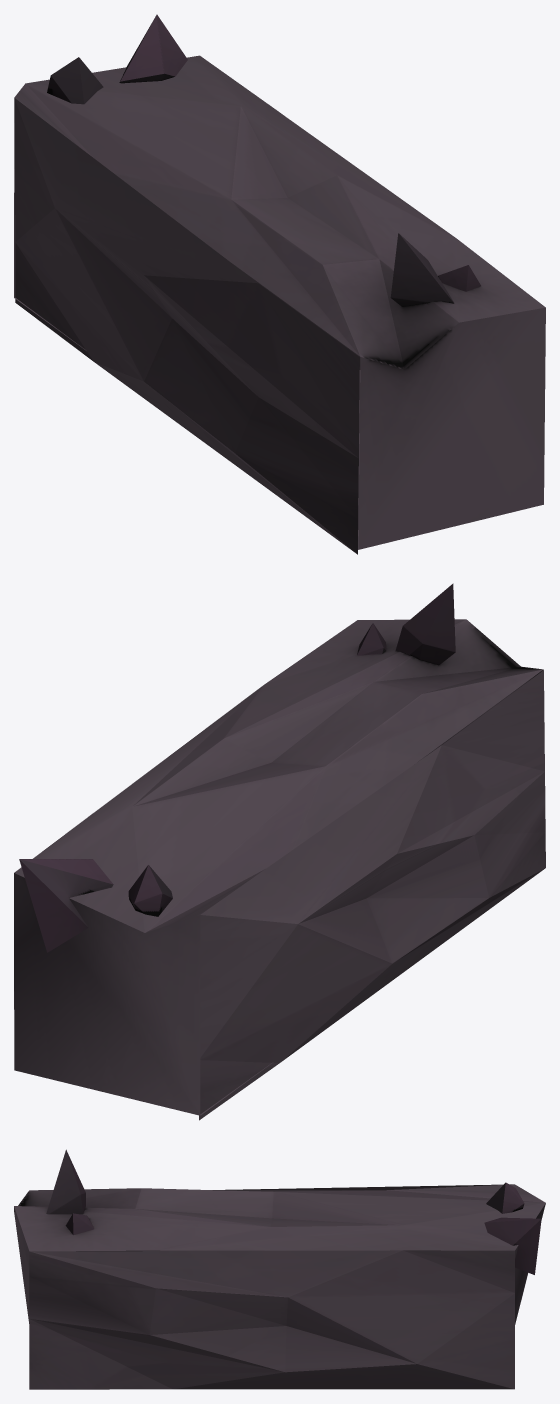
Rendered from ground2.FBX.
3 views of the same model, one above another, from view 1: azimuth 30°, elevation 25°; view 2: azimuth 150°, elevation 25°; view 3: azimuth 270°, elevation 25° (orthographic). The views are drawn at different scales.
Parts seen in each view (by area): view 1: ground2; view 2: ground2; view 3: ground2.
Part boxes in pixels (x1=…): ground2: x1=14, y1=14, x2=545, y2=554; ground2: x1=14, y1=583, x2=545, y2=1120; ground2: x1=14, y1=1149, x2=545, y2=1389.
Size of the model in its own units: 42.53 by 44.63 by 106.
